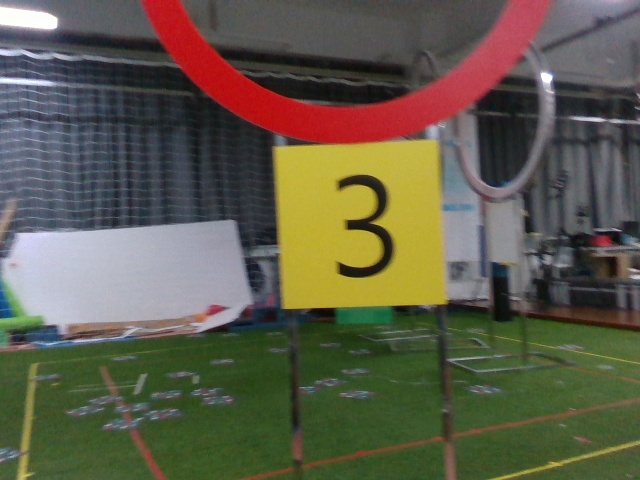target: (284, 158, 435, 305)
